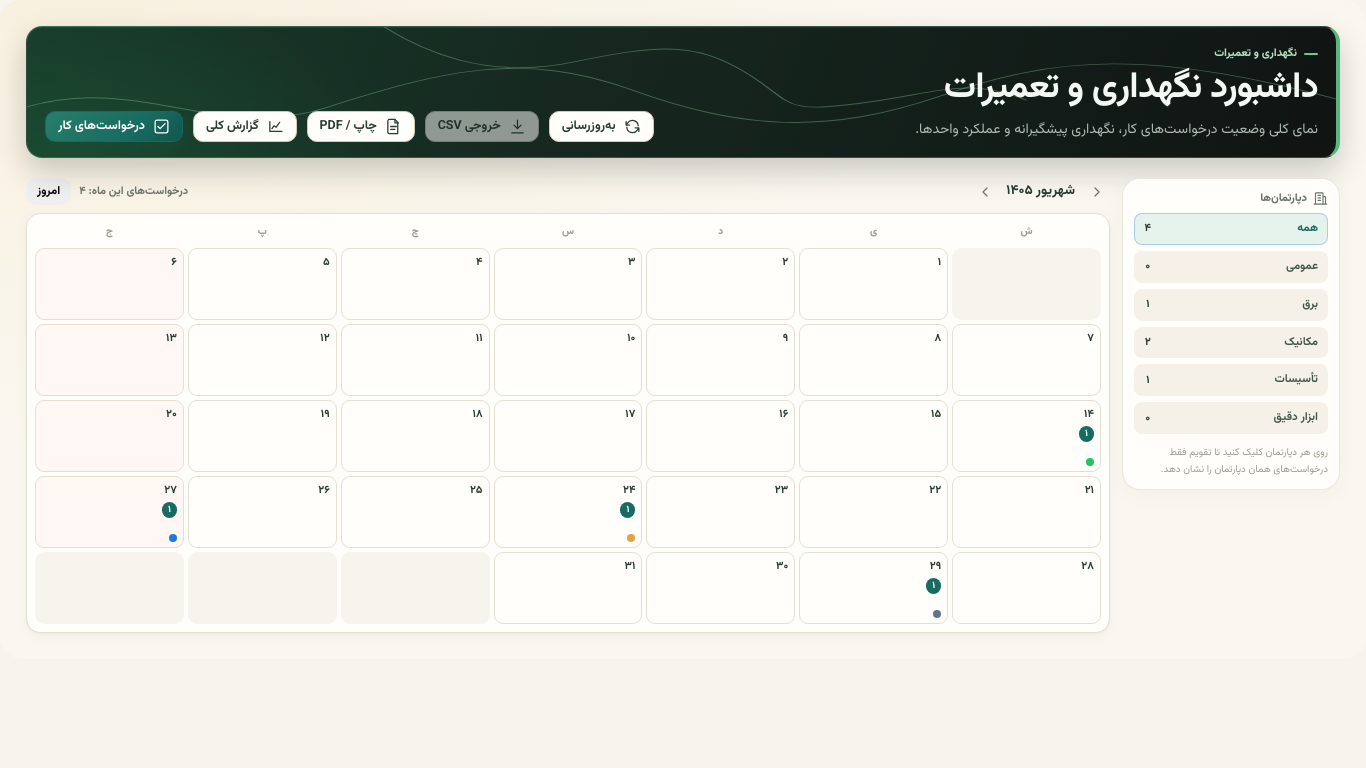
Test: the maintenance dashboard family › the department rail filters the requests shown on the calendar
This screenshot has width=1366, height=768.
Expected: the table is shown, [26,213,1110,632]
Expected: the text "درخواست‌های این ماه:" shows "۴", [79,183,86,200]
// Keep only the electrical department on the rail.
What coordinates should you click on to do the following:
click the button "برق ۱"
I would click on:
 (1231, 305)
Its box is [1134,289,1328,320].
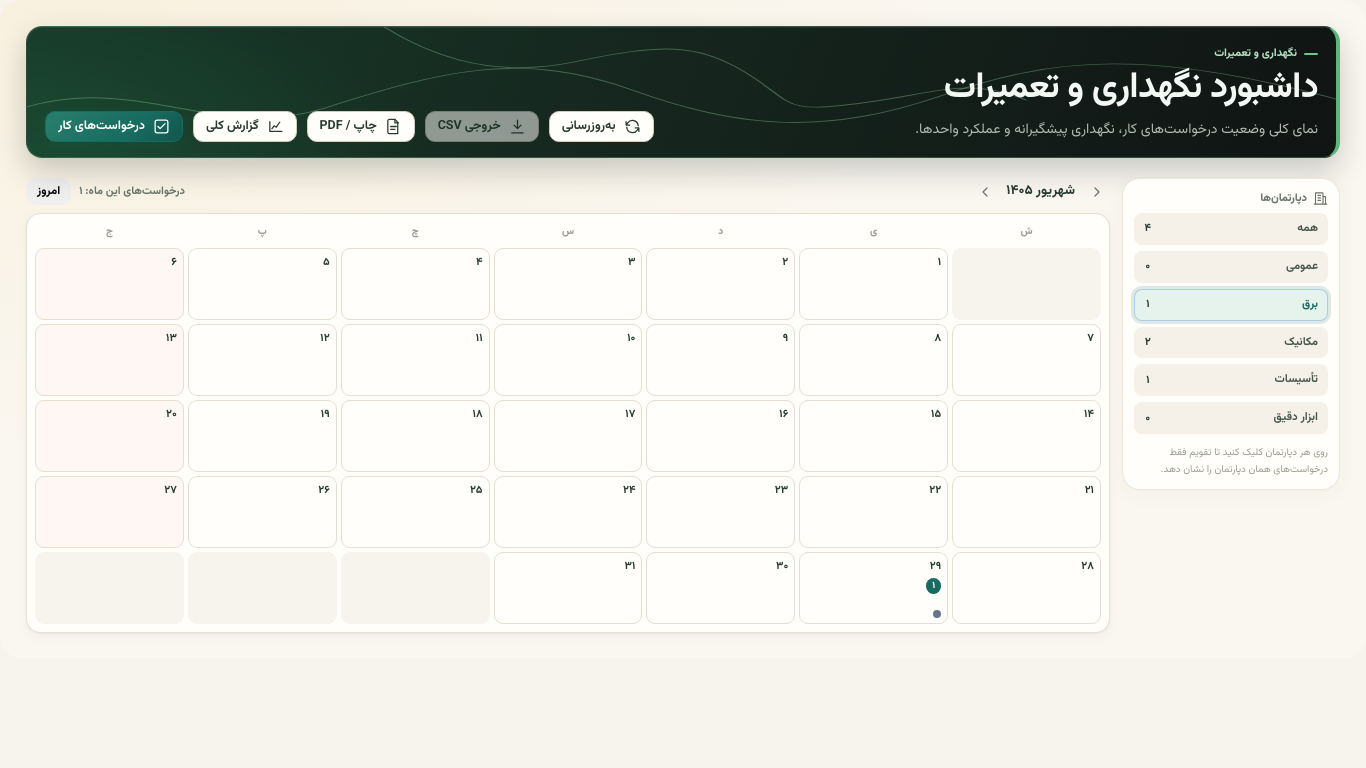
Expected: the text "درخواست‌های این ماه:" shows "۱", [79,183,82,200]
// «همه» brings everything back.
What coordinates should you click on to do the following:
click the button "همه ۴"
I would click on:
 (1231, 229)
Its box is [1134,213,1328,245].
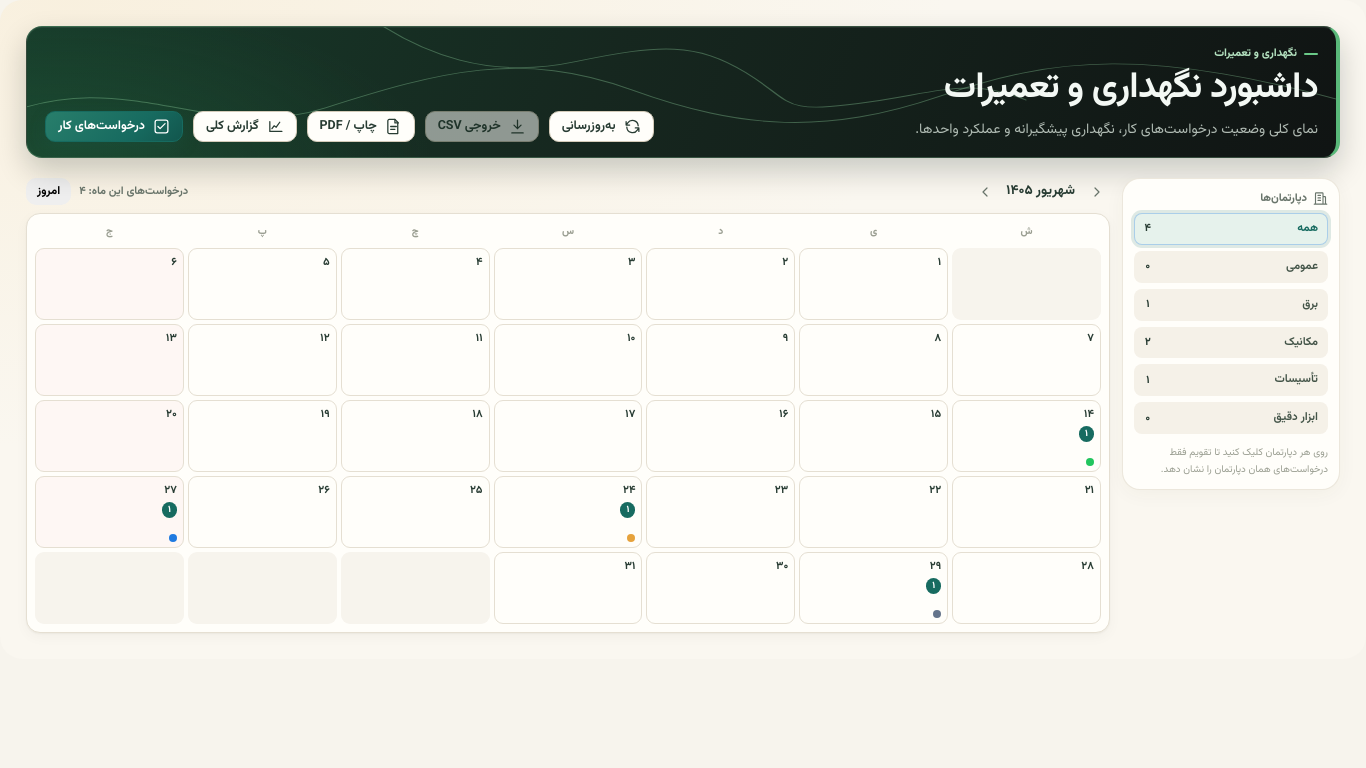
Result: the text "درخواست‌های این ماه:" shows "۴" at [79,183,86,200]
